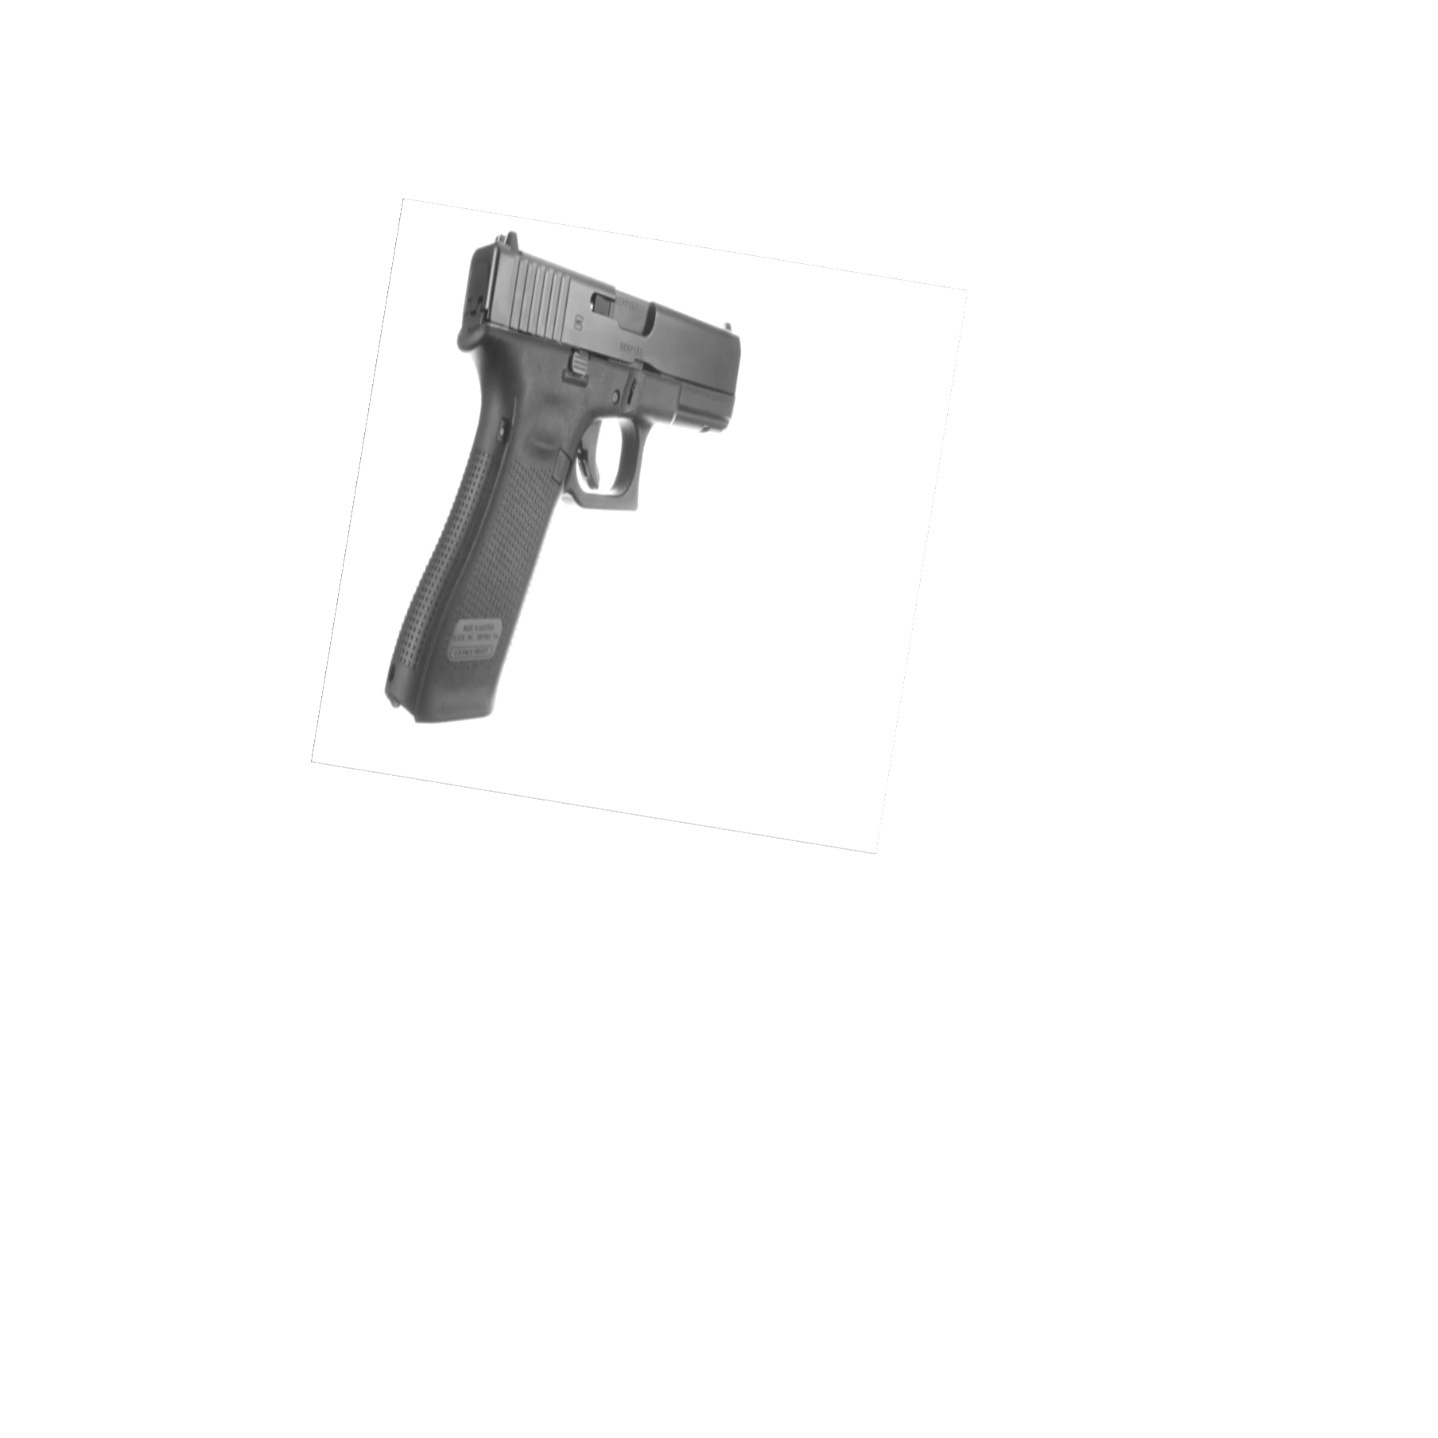gun: (381, 226, 745, 728)
